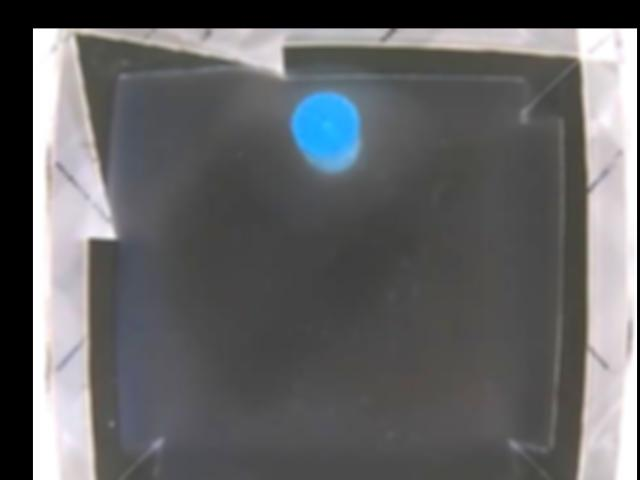Carrot: (292, 92, 359, 174)
